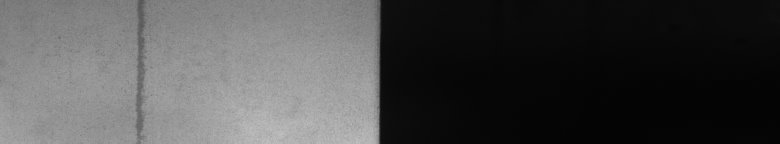hd: (124, 4, 152, 136)
